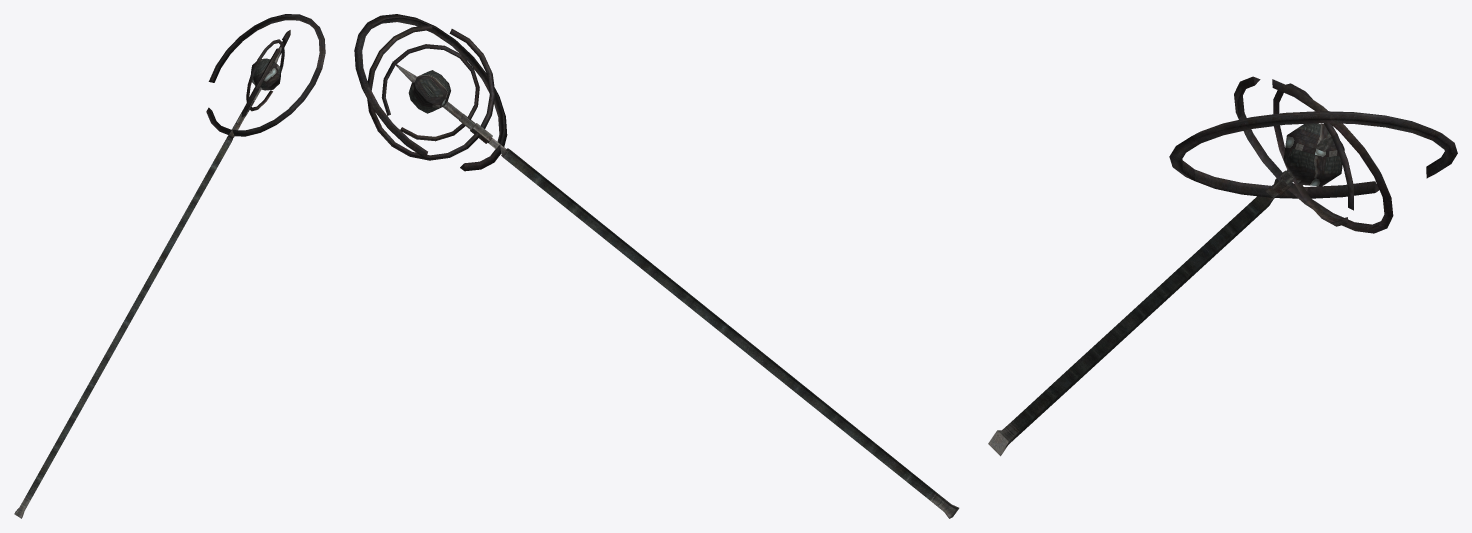
Rendered from msh.glb.
3 renders of one model, left to right at view 1: azimuth 30°, elevation 25°; view 2: azimuth 150°, elevation 25°; view 3: azimuth 270°, elevation 25°, orthographic. The views are drawn at different scales.
Parts seen in each view (by area): view 1: mesh_313, mesh_314; view 2: mesh_313, mesh_314; view 3: mesh_313, mesh_314.
Boxes of the visible parts, box(x1,y1,x2,y2) form: mesh_313: box(14, 14, 325, 518); mesh_314: box(251, 58, 280, 90); mesh_313: box(354, 14, 959, 518); mesh_314: box(408, 70, 450, 113); mesh_313: box(988, 76, 1457, 456); mesh_314: box(1283, 123, 1344, 186).
Bounding box in the file's own units: 18.4 × 16.41 × 9.94.
Materials: 2 (2 with a texture image).
